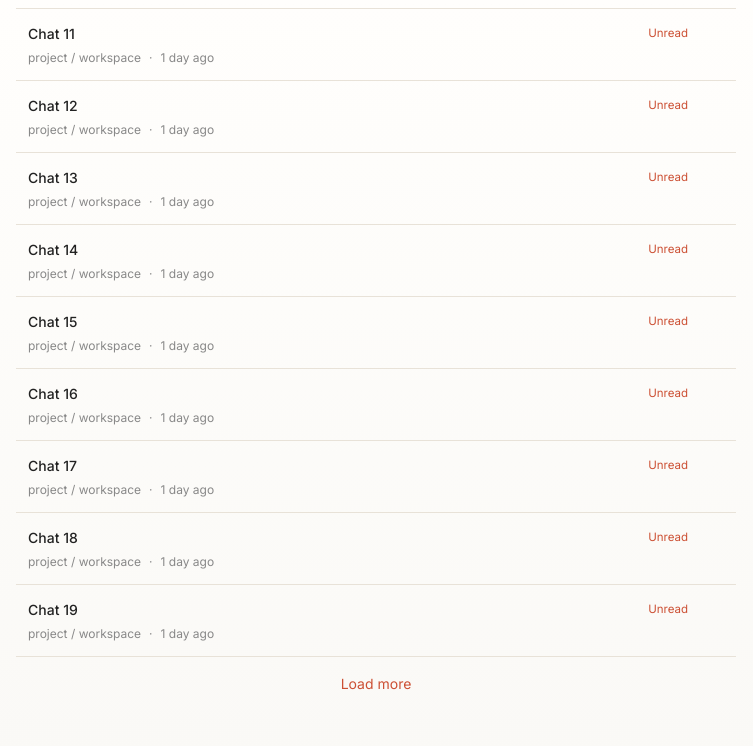
Chats › loads subsequent pages from the current conversation count
(page scrolled)
Click the button "Load more" at (376, 684), box [16,664,736,704]
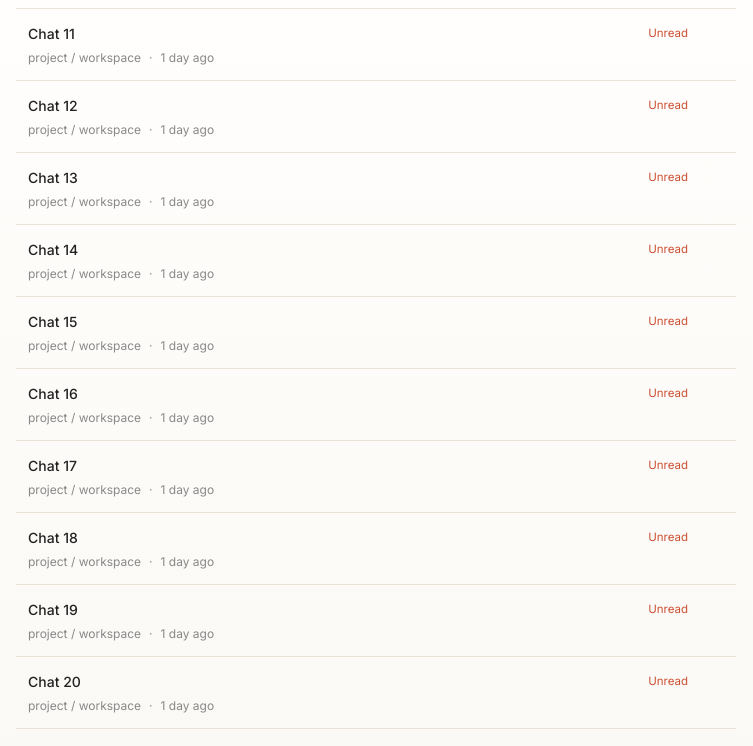
Result: the button "Chat 20 Unread project / workspace · 1 day ago" is shown at [28,673,688,713]
Result: the button "Load more" is gone
